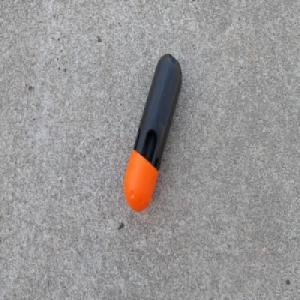PlasticPart: (123, 51, 182, 213)
